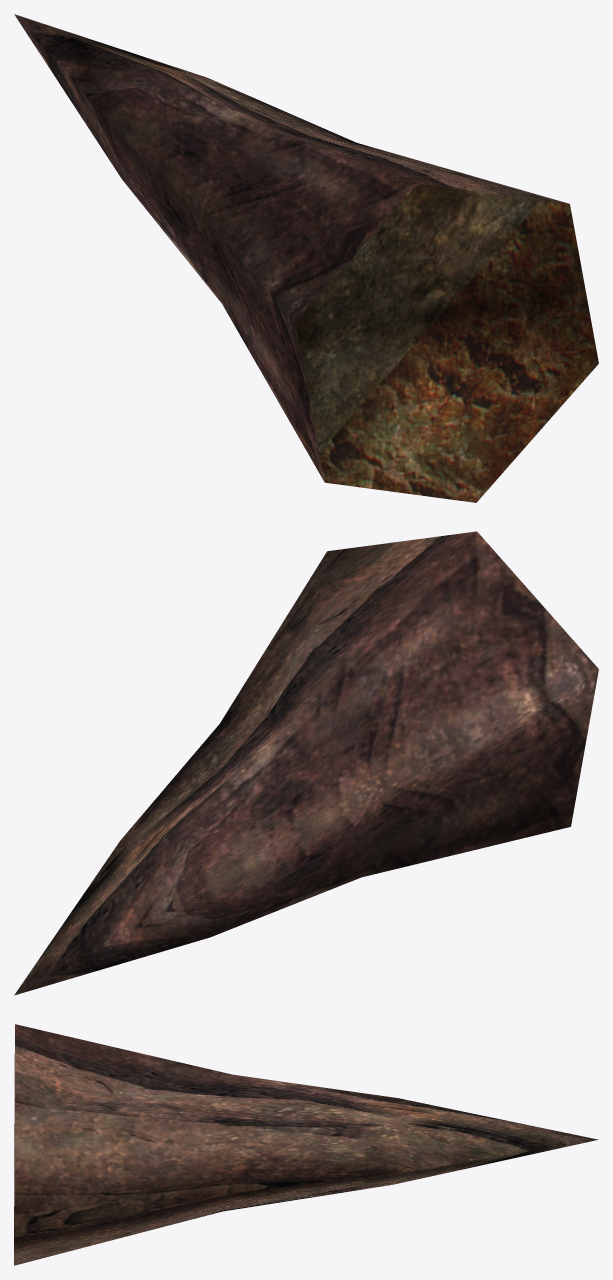
File: stalactite_13.obj
3 renders of one model, top to bottom at view 1: azimuth 30°, elevation 25°; view 2: azimuth 150°, elevation 25°; view 3: azimuth 270°, elevation 25°, orthographic. The views are drawn at different scales.
Visible parts, largest first — view 1: (null); view 2: (null); view 3: (null).
Part boxes in pixels (x1,y1,x2,y2): (null): (14, 14, 598, 502); (null): (14, 531, 598, 995); (null): (14, 1024, 598, 1265).
Size of the model in its own units: 2.14 by 2.25 by 5.35.
